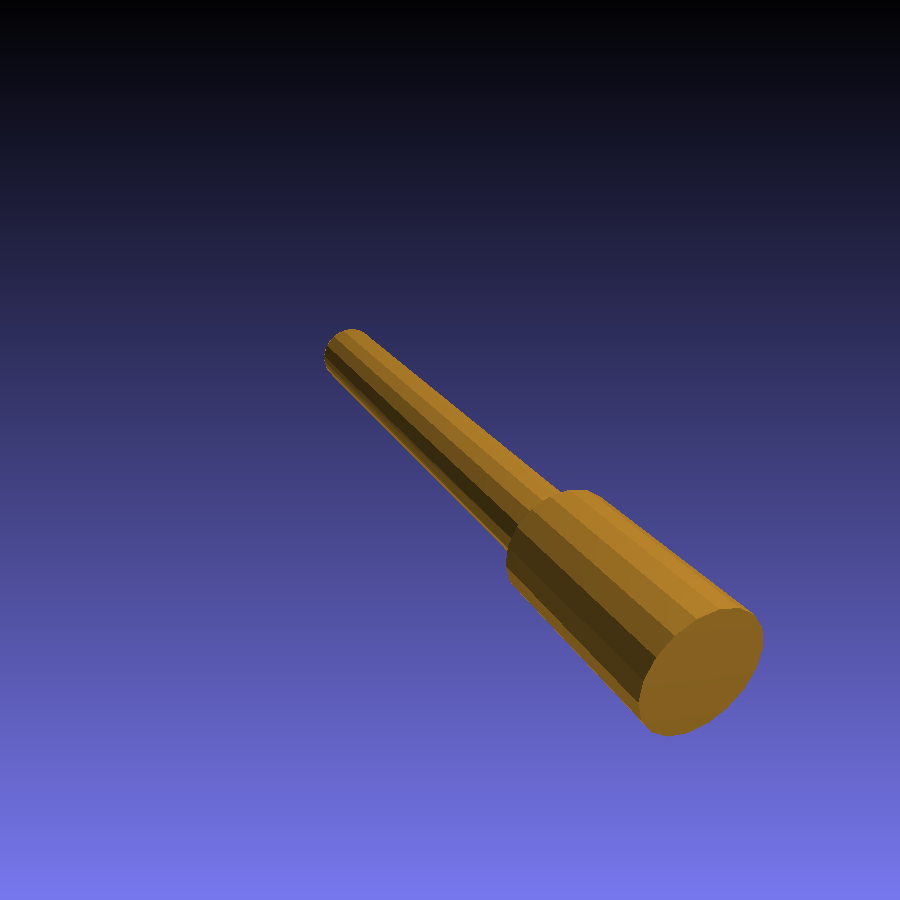cargo_g: (324, 328, 763, 736)
